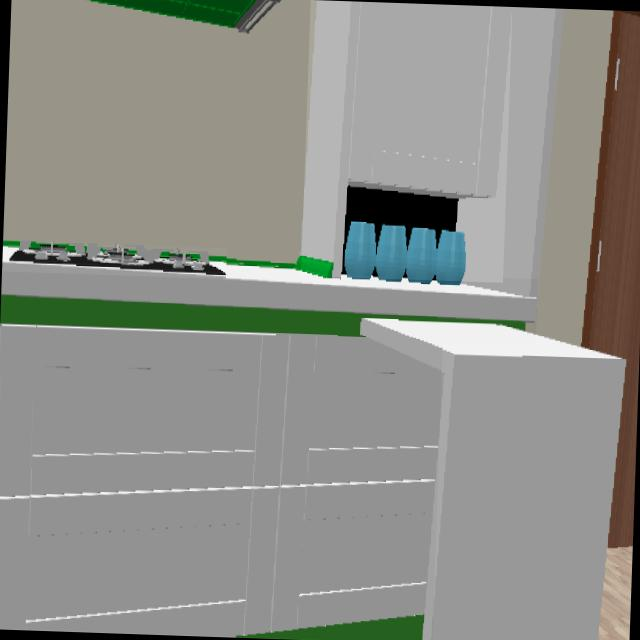cabinet: (0, 325, 441, 637), (301, 0, 512, 277)
countertop: (0, 264, 536, 338)
stove: (2, 241, 225, 277)
